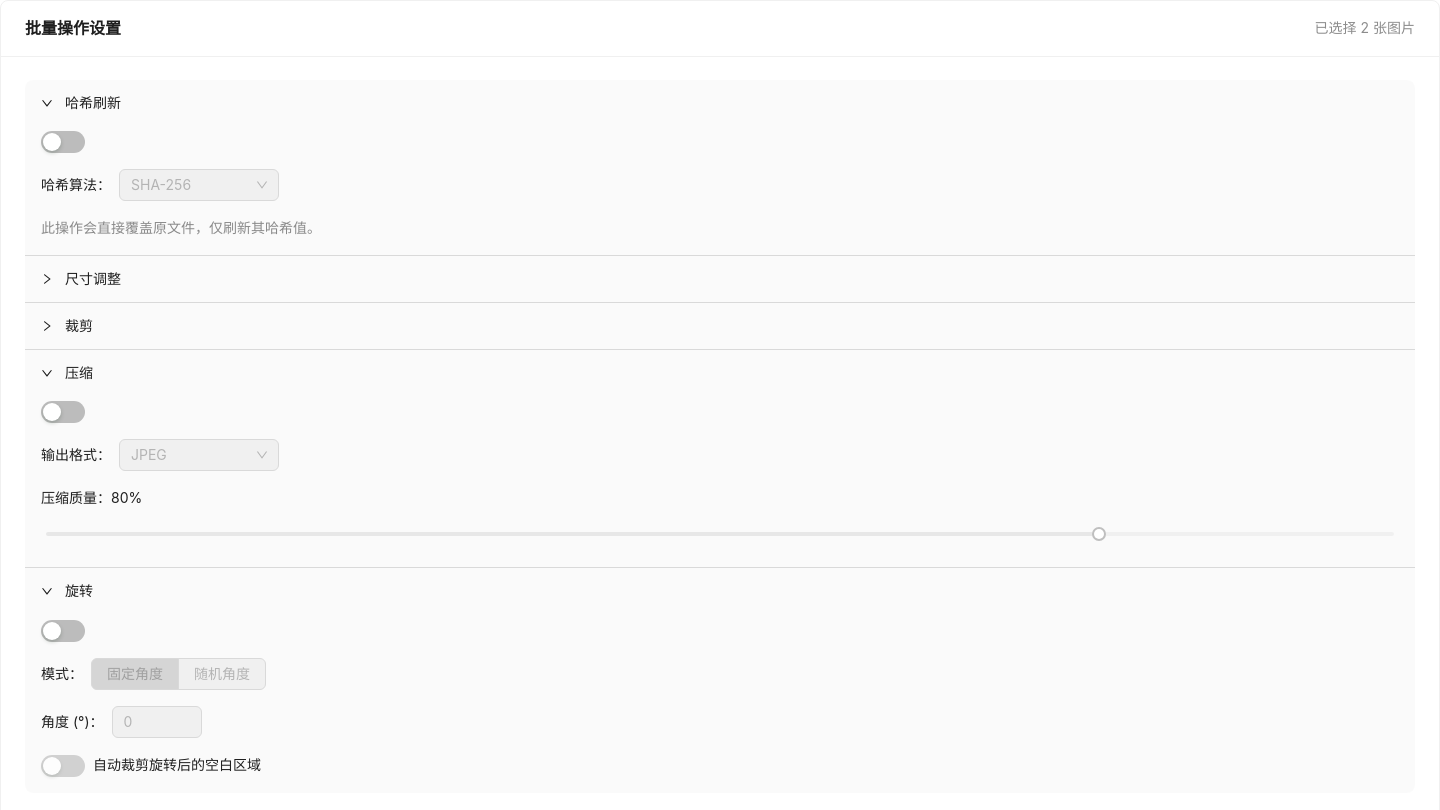
Test case: OperationPanel › renders collapse panel content by default
Expected: the text "哈希算法：" is shown, [41,176,111,193]
Expected: the text "输出格式：" is shown, [41,446,111,463]
展开其他面板来检查所有内容
Click the button "尺寸调整".
click(81, 279)  # box [41,270,121,287]
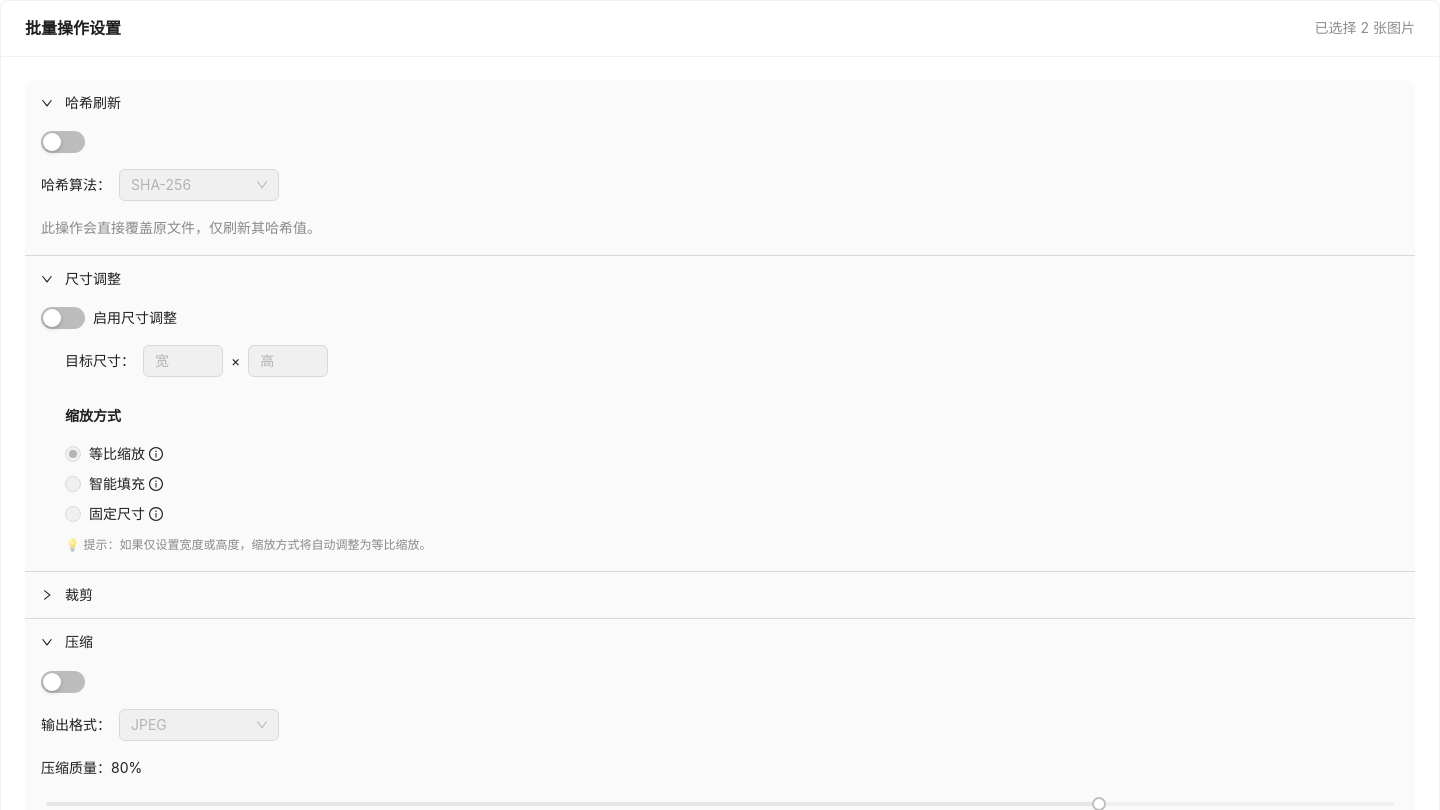
Now the text "缩放方式" is shown, box [65,407,121,424]
